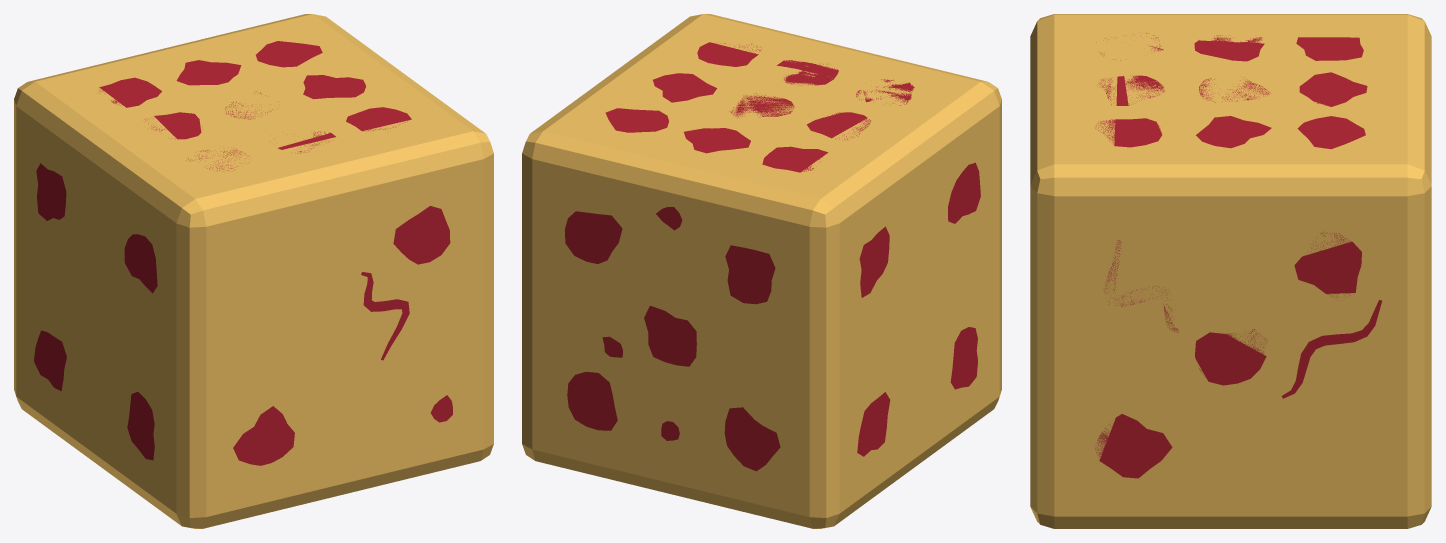
File: Die_RedWindsor_d6_Lucky9.fbx
The picture shows the model from 3 angles, left to right: view 1: azimuth 30°, elevation 25°; view 2: azimuth 150°, elevation 25°; view 3: azimuth 270°, elevation 25°; orthographic projection. The views are drawn at different scales.
Visible parts, largest first — view 1: Die_RedWindsor_d6_Lucky9; view 2: Die_RedWindsor_d6_Lucky9; view 3: Die_RedWindsor_d6_Lucky9.
Boxes of the visible parts, left/top/right/bottom form: Die_RedWindsor_d6_Lucky9: left=14, top=14, right=493, bottom=528; Die_RedWindsor_d6_Lucky9: left=522, top=14, right=1001, bottom=528; Die_RedWindsor_d6_Lucky9: left=1030, top=14, right=1431, bottom=528.
Bounding box in the file's own units: 1 × 1 × 1.
